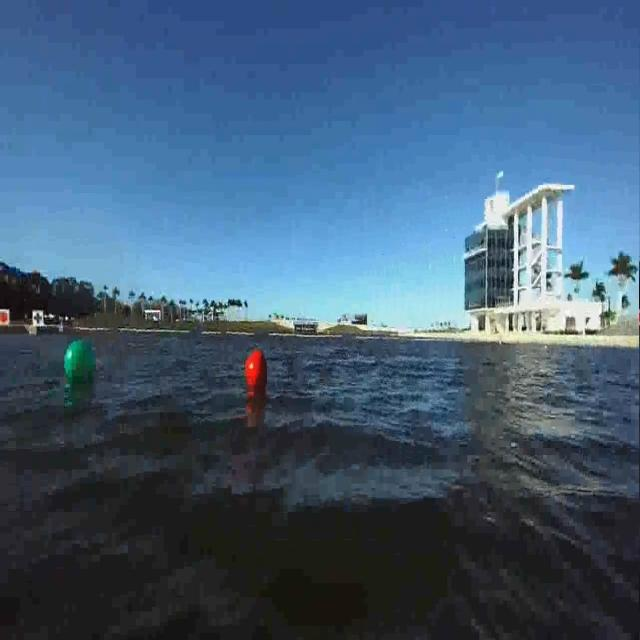green-buoy: (62, 337, 96, 384)
red-buoy: (245, 348, 268, 389)
